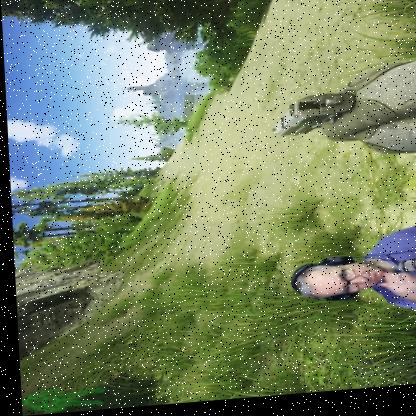streamer: (284, 227, 416, 331)
